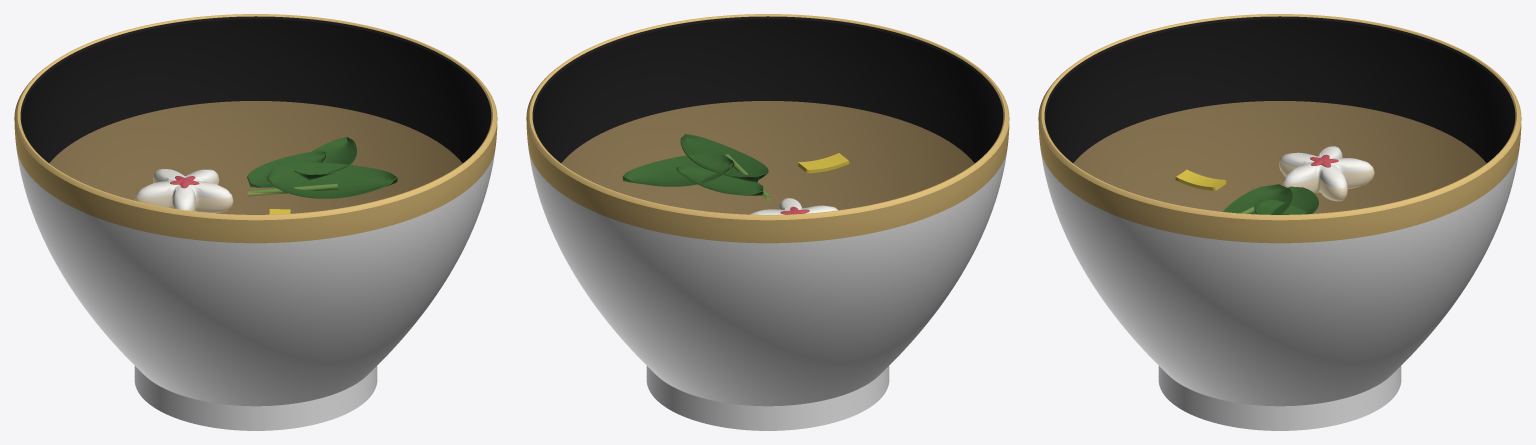
File: wanmono.glb
3 renders of one model, left to right at view 1: azimuth 30°, elevation 25°; view 2: azimuth 150°, elevation 25°; view 3: azimuth 270°, elevation 25°, orthographic.
Visible parts, largest first — view 1: 汁椀, 出汁, 三つ葉0, 梅花麩, 三つ葉1, 三つ葉2, 三つ葉の軸; view 2: 汁椀, 出汁, 三つ葉1, 三つ葉0, 三つ葉2, 柚子皮, 梅花麩; view 3: 汁椀, 出汁, 梅花麩, 三つ葉0, 柚子皮, 三つ葉2, 三つ葉1.
Part boxes in pixels (x1,y1,x2,y2): 汁椀: (14,14,497,430); 出汁: (49,101,462,214); 三つ葉0: (266,162,397,198); 梅花麩: (135,169,233,213); 三つ葉1: (294,137,356,180); 三つ葉2: (247,151,326,187); 三つ葉の軸: (247,183,338,196); 汁椀: (526,14,1009,430); 出汁: (561,101,974,214); 三つ葉1: (622,153,734,186); 三つ葉0: (680,134,768,182); 三つ葉2: (676,166,763,195); 柚子皮: (797,153,849,173); 梅花麩: (750,198,837,214); 汁椀: (1038,14,1521,430); 出汁: (1073,101,1486,213); 梅花麩: (1279,146,1374,201); 三つ葉0: (1223,184,1292,214); 柚子皮: (1175,169,1226,190); 三つ葉2: (1282,186,1318,214); 三つ葉1: (1254,200,1306,214).
Size of the model in its own units: 0.1202 by 0.0727 by 0.1202.
